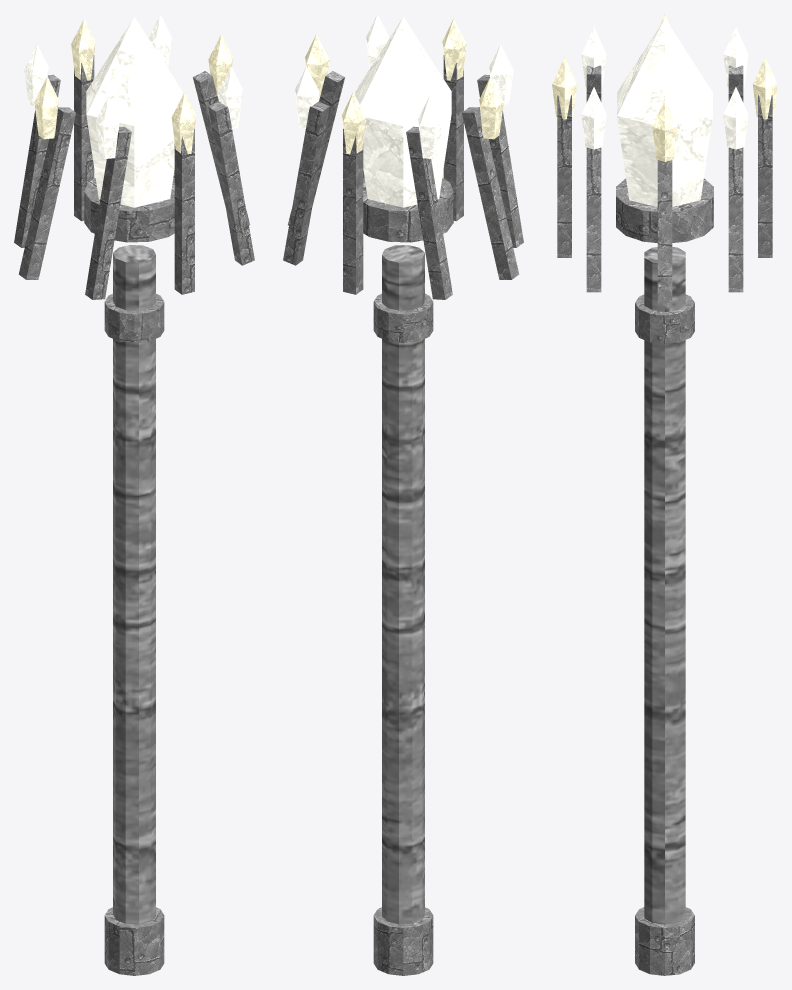
File: staff-radiance-advanced.glb
The picture shows the model from 3 angles, left to right: view 1: azimuth 30°, elevation 25°; view 2: azimuth 150°, elevation 25°; view 3: azimuth 270°, elevation 25°; orthographic projection.
Parts seen in each view (by area): view 1: shaft, core, corona4, corona3, pommel, corona1, corona2, hub, corona6, neck, corona5, corona0 (+8 smaller); view 2: shaft, core, corona4, corona5, pommel, corona7, corona6, hub, corona2, neck, corona3, corona0 (+8 smaller); view 3: shaft, core, hub, pommel, corona0, corona1, corona7, corona2, corona6, neck, tip1, tip7 (+5 smaller).
Part boxes in pixels (left/top/right/bottom): shaft: left=113, top=245, right=155, bottom=924; core: left=86, top=17, right=182, bottom=207; corona4: left=18, top=107, right=75, bottom=279; corona3: left=85, top=126, right=131, bottom=299; pommel: left=104, top=907, right=164, bottom=975; corona1: left=208, top=101, right=254, bottom=265; corona2: left=174, top=128, right=194, bottom=294; hub: left=84, top=177, right=174, bottom=242; corona6: left=74, top=55, right=94, bottom=221; neck: left=104, top=293, right=164, bottom=343; corona5: left=14, top=74, right=60, bottom=247; corona0: left=193, top=71, right=249, bottom=225; shaft: left=382, top=245, right=424, bottom=924; core: left=355, top=17, right=451, bottom=207; corona4: left=462, top=107, right=519, bottom=279; corona5: left=406, top=126, right=452, bottom=299; pommel: left=373, top=907, right=433, bottom=975; corona7: left=283, top=101, right=329, bottom=265; corona6: left=343, top=128, right=363, bottom=294; hub: left=363, top=177, right=453, bottom=242; corona2: left=443, top=55, right=463, bottom=221; neck: left=373, top=293, right=433, bottom=343; corona3: left=477, top=74, right=523, bottom=247; corona0: left=288, top=71, right=344, bottom=225; shaft: left=644, top=247, right=685, bottom=924; core: left=617, top=18, right=712, bottom=206; hub: left=616, top=178, right=713, bottom=242; pommel: left=635, top=907, right=694, bottom=975; corona0: left=657, top=160, right=672, bottom=305; corona1: left=586, top=147, right=601, bottom=292; corona7: left=728, top=147, right=743, bottom=292; corona2: left=557, top=95, right=571, bottom=257; corona6: left=758, top=95, right=772, bottom=257; neck: left=635, top=294, right=694, bottom=343; tip1: left=581, top=87, right=606, bottom=149; tip7: left=723, top=87, right=748, bottom=149.
Bounding box in the file's own units: 0.4894 × 1.97 × 0.4276.
Materials: 4 (4 with a texture image).
